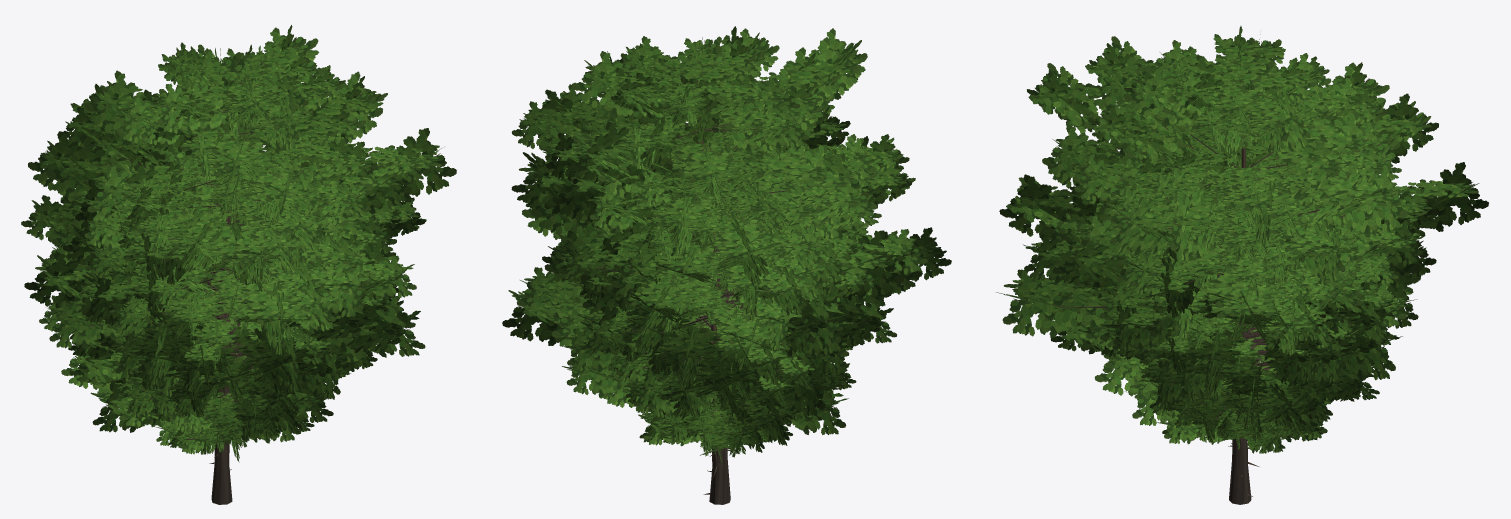
The model's file is tree_oak.glb.
The picture shows the model from 3 angles, left to right: view 1: azimuth 30°, elevation 25°; view 2: azimuth 150°, elevation 25°; view 3: azimuth 270°, elevation 25°; orthographic projection. The views are drawn at different scales.
Visible parts, largest first — view 1: V2_LOD0, V1_LOD0, V3_LOD0, V0_LOD0; view 2: V2_LOD0, V1_LOD0, V3_LOD0, V0_LOD0; view 3: V2_LOD0, V1_LOD0, V3_LOD0, V0_LOD0.
Part boxes in pixels (bbox=[...]): V2_LOD0: bbox=[21, 25, 456, 504]; V1_LOD0: bbox=[47, 126, 415, 504]; V3_LOD0: bbox=[39, 141, 398, 504]; V0_LOD0: bbox=[72, 221, 377, 463]; V2_LOD0: bbox=[502, 26, 951, 504]; V1_LOD0: bbox=[554, 118, 904, 504]; V3_LOD0: bbox=[542, 142, 880, 504]; V0_LOD0: bbox=[570, 204, 857, 504]; V2_LOD0: bbox=[996, 26, 1488, 504]; V1_LOD0: bbox=[1038, 130, 1427, 504]; V3_LOD0: bbox=[1059, 146, 1406, 504]; V0_LOD0: bbox=[1097, 241, 1348, 496].
Size of what is drawn, in the model's own units: 23.8 by 27.73 by 27.39.
2 materials, 2 textured.
